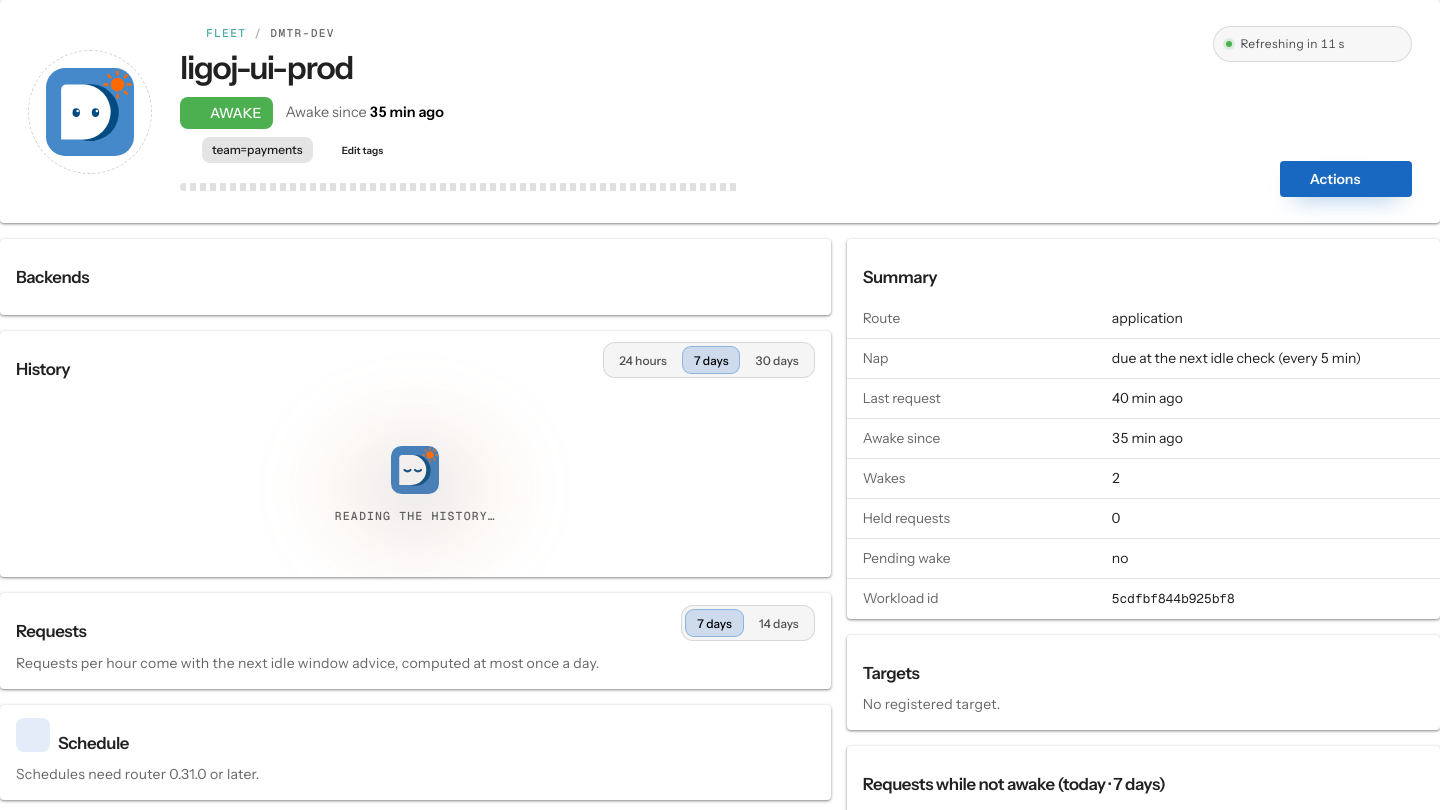
Workload view › refuses tags the rules refuse before sending them, with the router's words
The image size is (1440, 810).
Click the button with test id "edit-tags": (355, 150) [319,140,391,160]
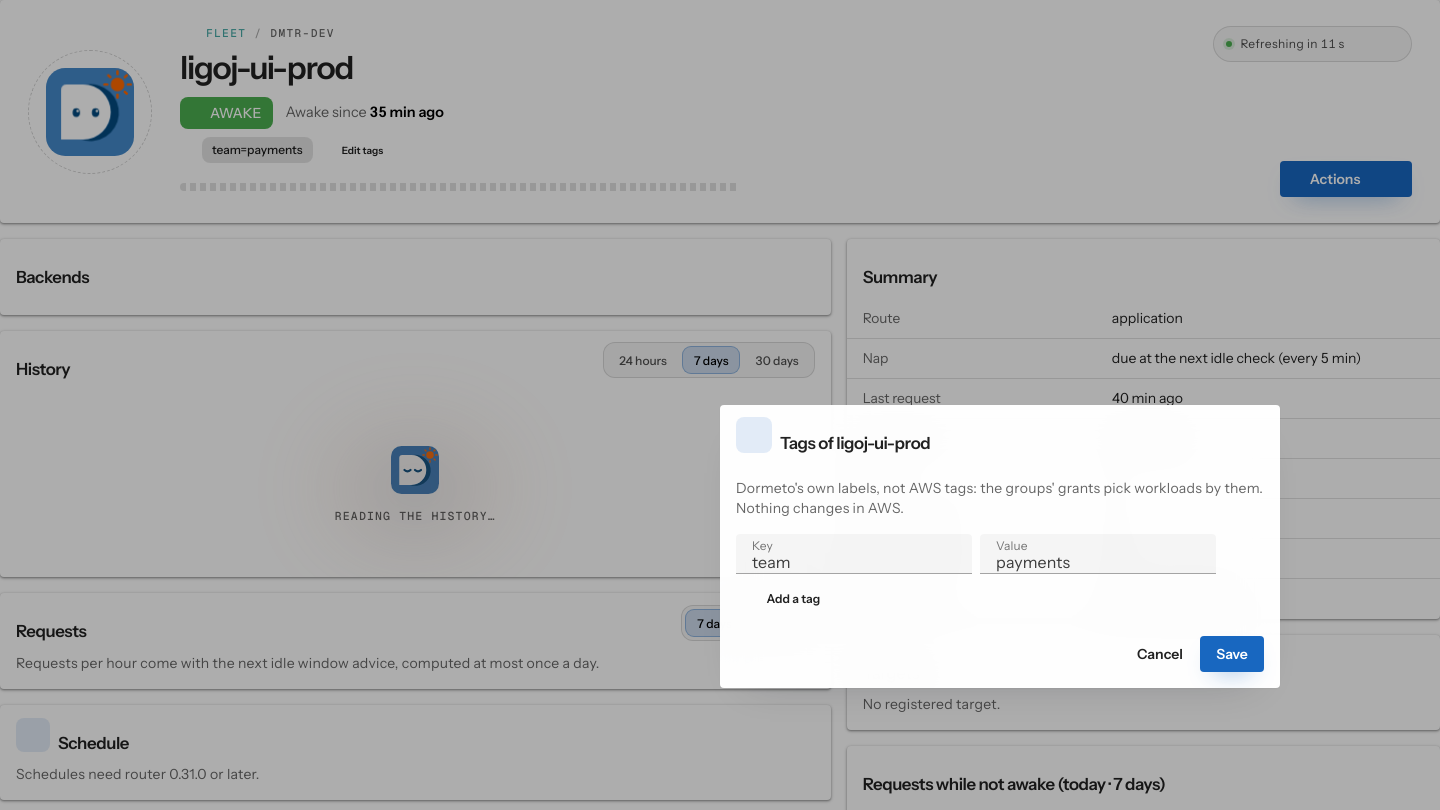
Replace the text in the field labelled "Key" with "Dormeto:x": (854, 554) [736,534,972,574]
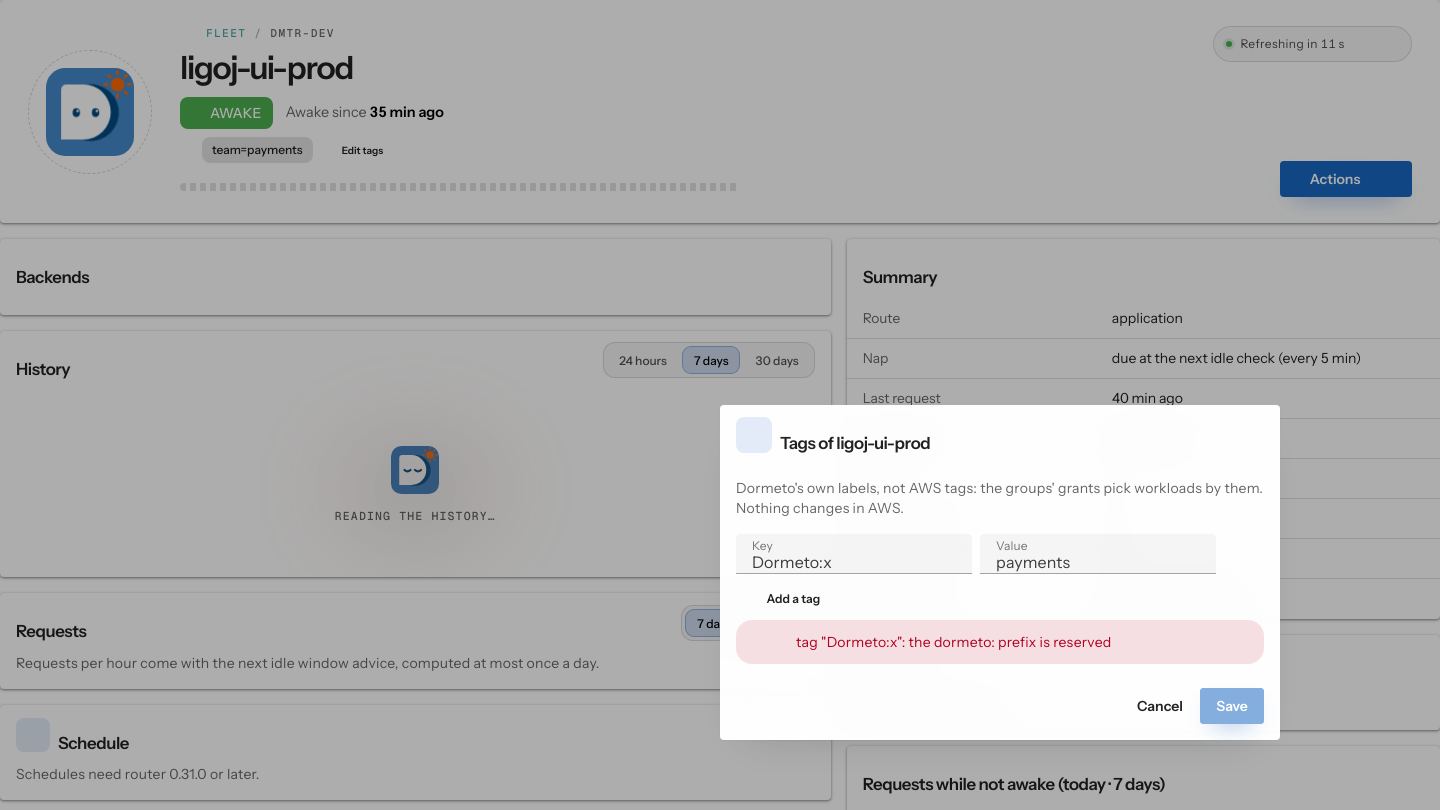
Expected: the button "Save" is disabled, [1200,688,1264,724]
